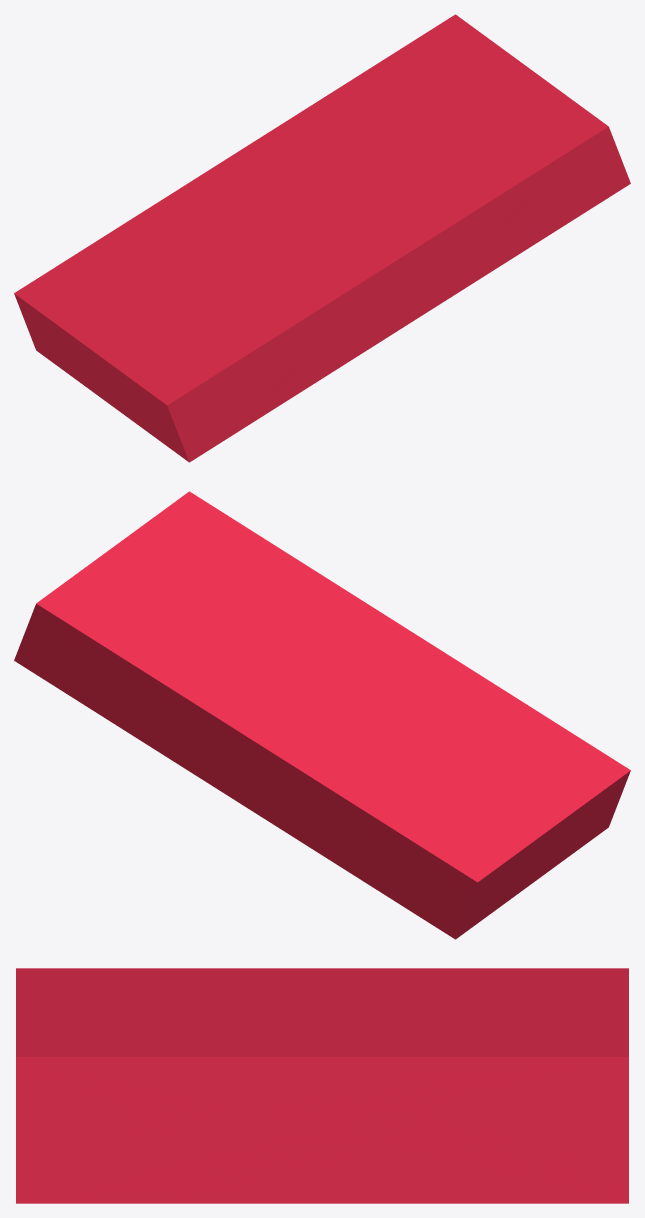
File: tangram3.gltf
The picture shows the model from 3 angles, top to bottom: view 1: azimuth 30°, elevation 25°; view 2: azimuth 150°, elevation 25°; view 3: azimuth 270°, elevation 25°; orthographic projection. The views are drawn at different scales.
Bounding box in the file's own units: 0.0349 × 0.0168 × 0.02.
